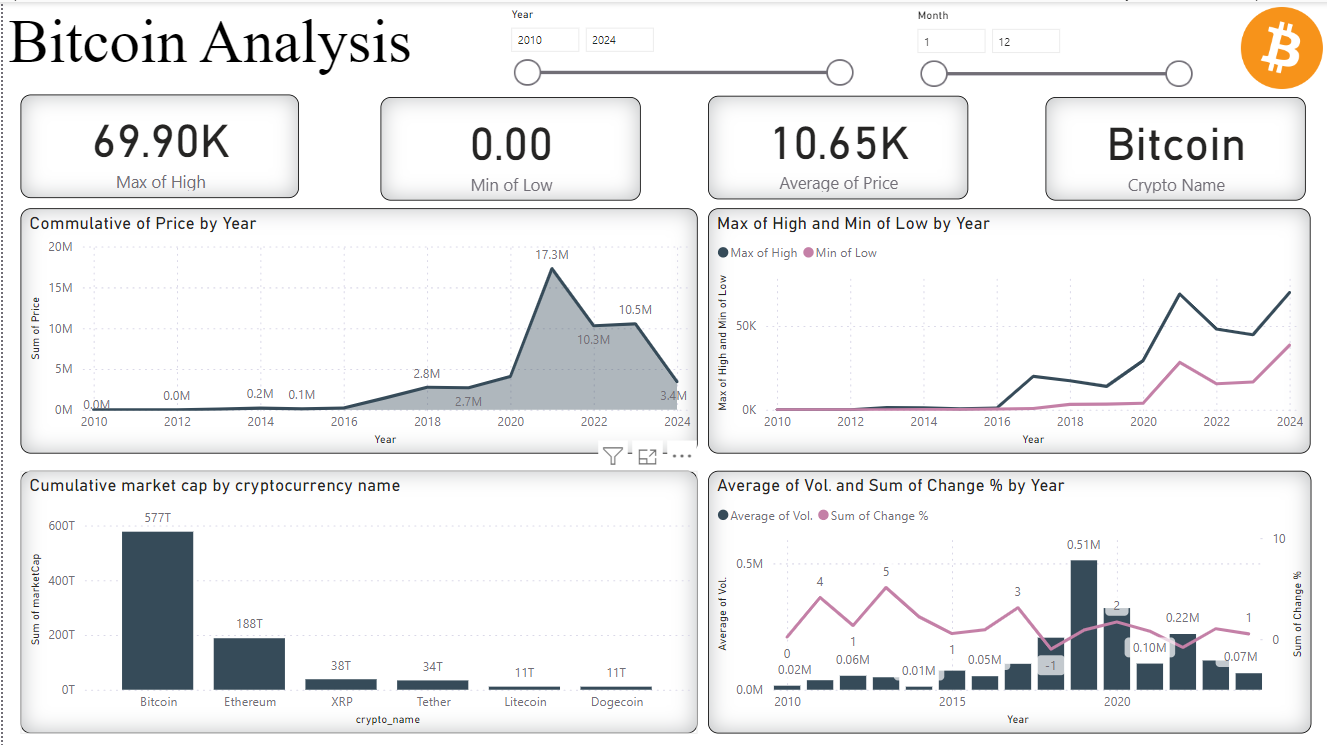

The dashboard page shown, as its layout file describes it:
{"tool":"powerbi","page":{"name":"Duplicate of Page 1","canvas":[1280,720],"ordinal":1},"visuals":[{"type":"lineStackedColumnComboChart","fields":{"Category":["Bitcoin Historical Data3.Year","Bitcoin Historical Data3.Date","Bitcoin Historical Data3.Month"],"Y":["Avg(Bitcoin Historical Data3.Vol.)"],"Y2":["Sum(Bitcoin Historical Data3.Change %)"]},"box":[680.4,452.4,582.7,253.4],"z":0},{"type":"textbox","box":[0,0,417.2,89.2],"z":1000},{"type":"image","box":[1187.9,0,91.7,89.2],"z":2000},{"type":"slicer","fields":{"Values":["Bitcoin Historical Data3.Year"]},"box":[477.8,0,351.1,112.2],"z":3000},{"type":"lineChart","fields":{"Category":["Bitcoin Historical Data3.Year","Bitcoin Historical Data3.Month","Bitcoin Historical Data3.Date"],"Y":["Max(Bitcoin Historical Data3.High)","Min(Bitcoin Historical Data3.Low)"]},"box":[680.4,199.1,581.5,236.5],"z":4000},{"type":"areaChart","title":"Commulative of Price by Year","fields":{"Y":["Sum(Bitcoin Historical Data3.Price)"],"Category":["Bitcoin Historical Data3.Year","Bitcoin Historical Data3.Month","Bitcoin Historical Data3.Date"]},"box":[16.9,199.1,653.9,236.5],"z":5000},{"type":"card","fields":{"Values":["Max(Bitcoin Historical Data3.High)"]},"box":[16.9,89.3,269,100.1],"z":6000},{"type":"slicer","fields":{"Values":["Bitcoin Historical Data3.Month"]},"box":[869.8,1.2,285.9,102.5],"z":7000},{"type":"card","fields":{"Values":["Min(Bitcoin Historical Data3.Low)"]},"box":[364.3,91.7,250.9,100.1],"z":8000},{"type":"clusteredColumnChart","title":"Cumulative market cap by cryptocurrency name","fields":{"Category":["dataset.crypto_name"],"Y":["Sum(dataset.marketCap)"]},"box":[16.9,452.4,653.9,253.4],"z":9000},{"type":"card","fields":{"Values":["Avg(Bitcoin Historical Data3.Price)"]},"box":[680.4,90.5,250.9,100.1],"z":10000},{"type":"card","fields":{"Values":["Min(dataset.crypto_name)"]},"box":[1006.2,91.7,250.9,100.1],"z":11000}]}

Visuals, with their boxes in screenshot pixels (x1, y1, x2, y2), scaled from the page's 1280x720 canvas onto the 1327x745 screenshot:
lineStackedColumnComboChart - Bitcoin Historical Data3.Year x Bitcoin Historical Data3.Date: <bbox>705, 468, 1309, 730</bbox>
textbox: <bbox>0, 0, 433, 92</bbox>
image: <bbox>1232, 0, 1326, 92</bbox>
slicer - Bitcoin Historical Data3.Year: <bbox>495, 0, 859, 116</bbox>
lineChart - Bitcoin Historical Data3.Year x Bitcoin Historical Data3.Month: <bbox>705, 206, 1308, 451</bbox>
"Commulative of Price by Year" areaChart: <bbox>18, 206, 695, 451</bbox>
card - Max(Bitcoin Historical Data3.High): <bbox>18, 92, 296, 196</bbox>
slicer - Bitcoin Historical Data3.Month: <bbox>902, 1, 1198, 107</bbox>
card - Min(Bitcoin Historical Data3.Low): <bbox>378, 95, 638, 198</bbox>
"Cumulative market cap by cryptocurrency name" clusteredColumnChart: <bbox>18, 468, 695, 730</bbox>
card - Avg(Bitcoin Historical Data3.Price): <bbox>705, 94, 965, 197</bbox>
card - Min(dataset.crypto_name): <bbox>1043, 95, 1303, 198</bbox>
